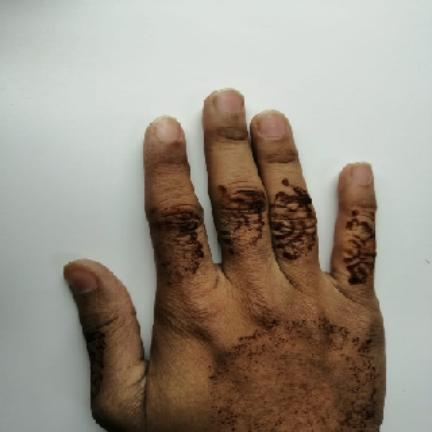Nail: (64, 262, 97, 294), (260, 111, 286, 138), (214, 89, 241, 113), (155, 117, 179, 142), (351, 163, 371, 185)
